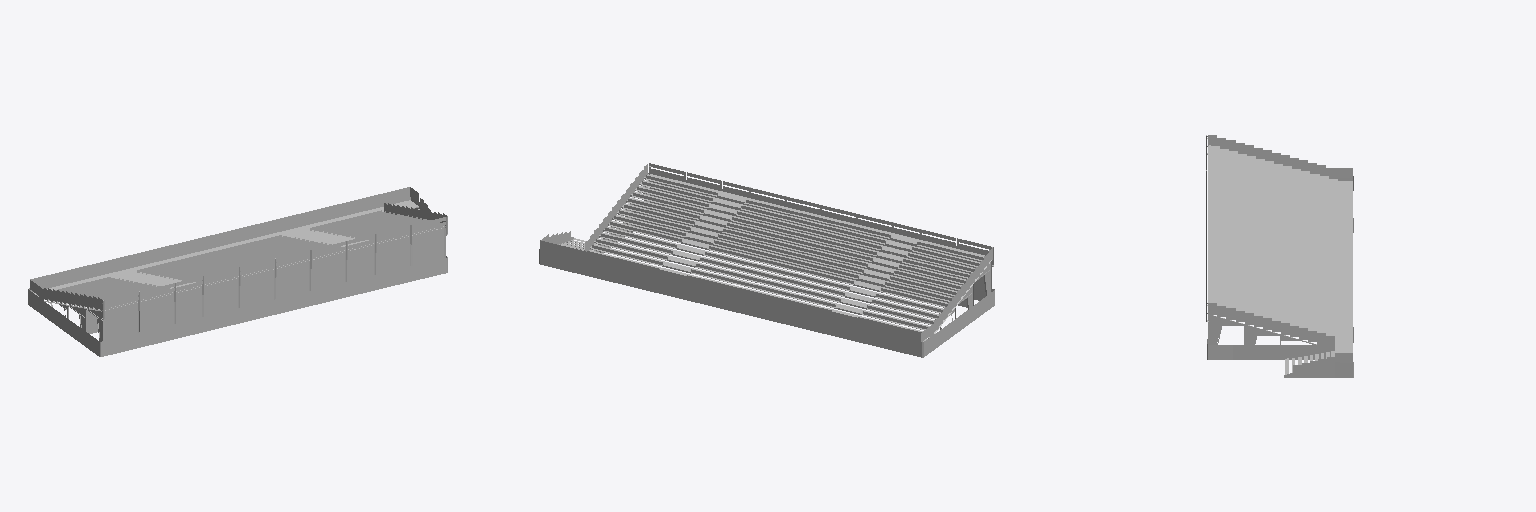
Rendered from tribunaovest.obj.
3 views of the same model, side by side, from view 1: azimuth 30°, elevation 25°; view 2: azimuth 150°, elevation 25°; view 3: azimuth 270°, elevation 25° (orthographic).
Visible parts, largest first — view 1: Tribuna_Ovest; view 2: Tribuna_Ovest; view 3: Tribuna_Ovest.
Boxes of the visible parts, x1,y1,x2,y2 form: Tribuna_Ovest: [28, 187, 447, 356]; Tribuna_Ovest: [539, 163, 994, 357]; Tribuna_Ovest: [1206, 135, 1353, 377].
Bounding box in the file's own units: 47.34 × 6.7 × 15.73.